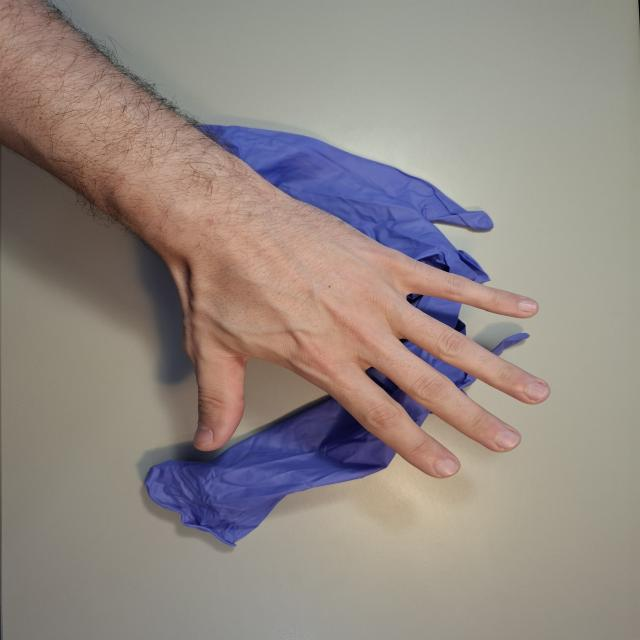glove_off: (162, 202, 554, 481)
